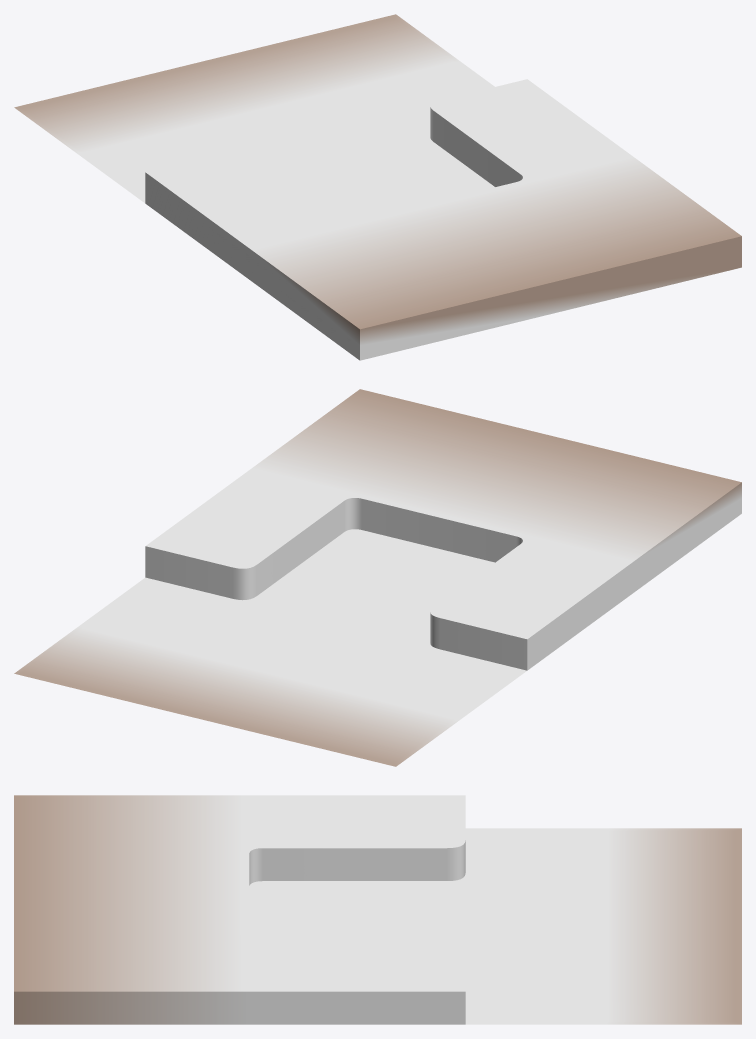
File: BigBase_Flat.fbx
The picture shows the model from 3 angles, top to bottom: view 1: azimuth 30°, elevation 25°; view 2: azimuth 150°, elevation 25°; view 3: azimuth 270°, elevation 25°; orthographic projection. The views are drawn at different scales.
Visible parts, largest first — view 1: BigBase_flat; view 2: BigBase_flat; view 3: BigBase_flat.
Part boxes in pixels (left/top/right/bottom): BigBase_flat: left=14, top=14, right=741, bottom=360; BigBase_flat: left=14, top=389, right=741, bottom=766; BigBase_flat: left=14, top=795, right=741, bottom=1024.
Bounding box in the file's own units: 1860 × 146 × 2918.
1 material, 1 textured.
